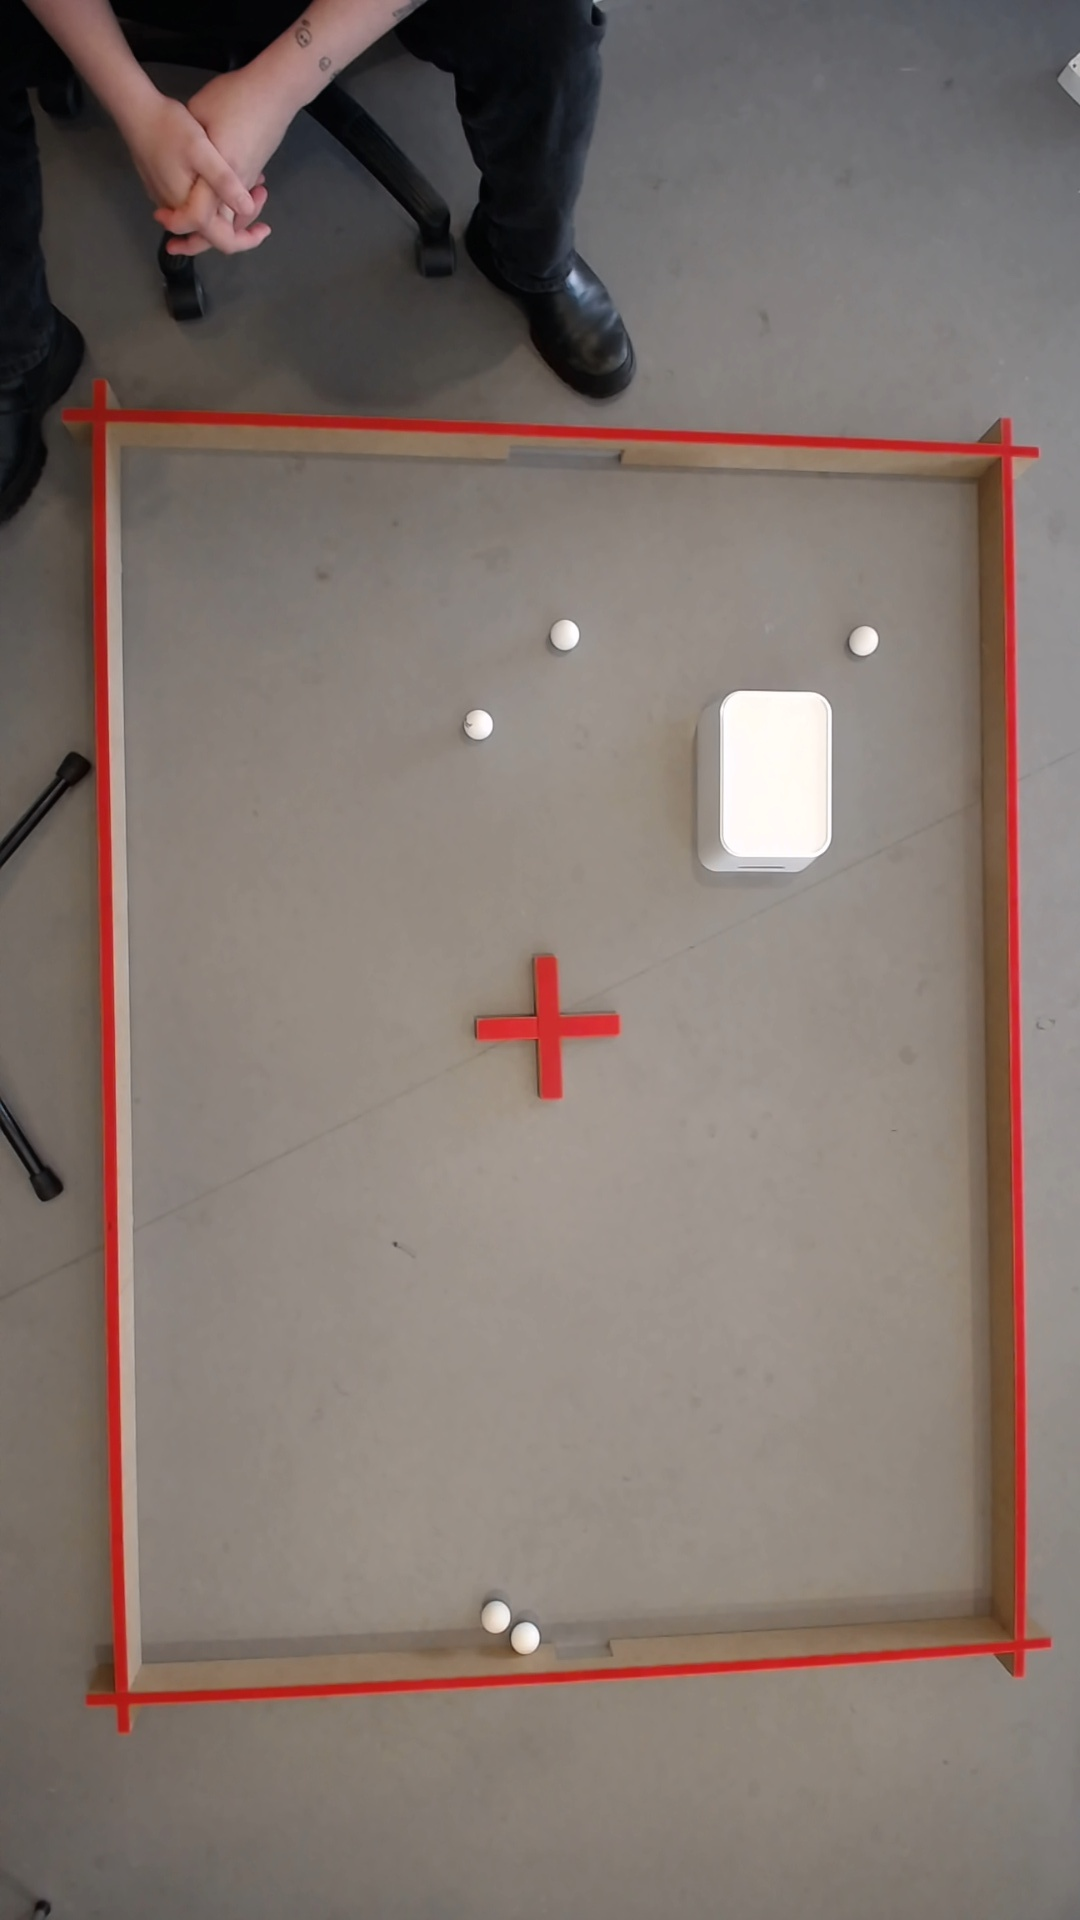balls: (719, 690, 831, 857), (463, 707, 497, 742), (551, 617, 584, 651), (852, 624, 882, 659), (516, 1622, 539, 1650)
car: (484, 1600, 514, 1633)
